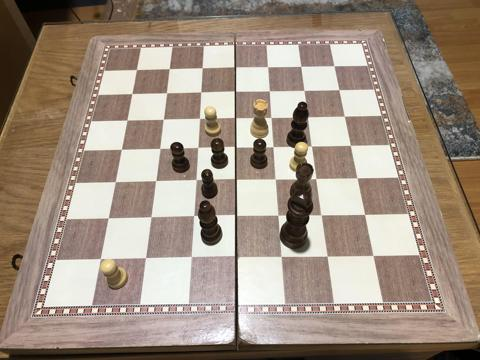xcorner: (328, 61, 341, 73), (165, 63, 177, 76), (333, 84, 345, 97), (127, 88, 140, 100), (302, 111, 315, 123), (230, 112, 242, 125), (270, 173, 283, 185), (150, 175, 162, 188), (230, 210, 242, 223), (102, 213, 115, 225), (366, 249, 379, 261), (296, 61, 308, 73), (263, 62, 275, 74), (230, 62, 242, 74), (198, 63, 210, 75), (132, 64, 144, 76), (299, 85, 311, 97), (265, 86, 277, 98), (230, 86, 242, 98), (196, 87, 208, 99), (162, 87, 174, 99), (339, 111, 351, 123), (266, 112, 278, 124), (194, 113, 206, 125), (158, 114, 170, 126), (122, 114, 134, 126), (344, 140, 356, 152), (306, 140, 318, 152), (268, 141, 280, 153), (230, 142, 242, 154), (192, 142, 204, 154), (154, 143, 166, 155), (116, 144, 128, 156), (351, 172, 363, 184), (311, 173, 323, 185), (230, 174, 242, 186), (190, 175, 202, 187), (110, 176, 122, 188), (358, 208, 370, 220), (316, 209, 328, 221), (273, 210, 285, 222), (188, 211, 200, 223), (145, 212, 157, 224), (321, 250, 333, 262), (276, 251, 288, 263), (230, 252, 242, 264), (185, 252, 197, 264), (140, 253, 152, 265), (94, 254, 106, 266)
